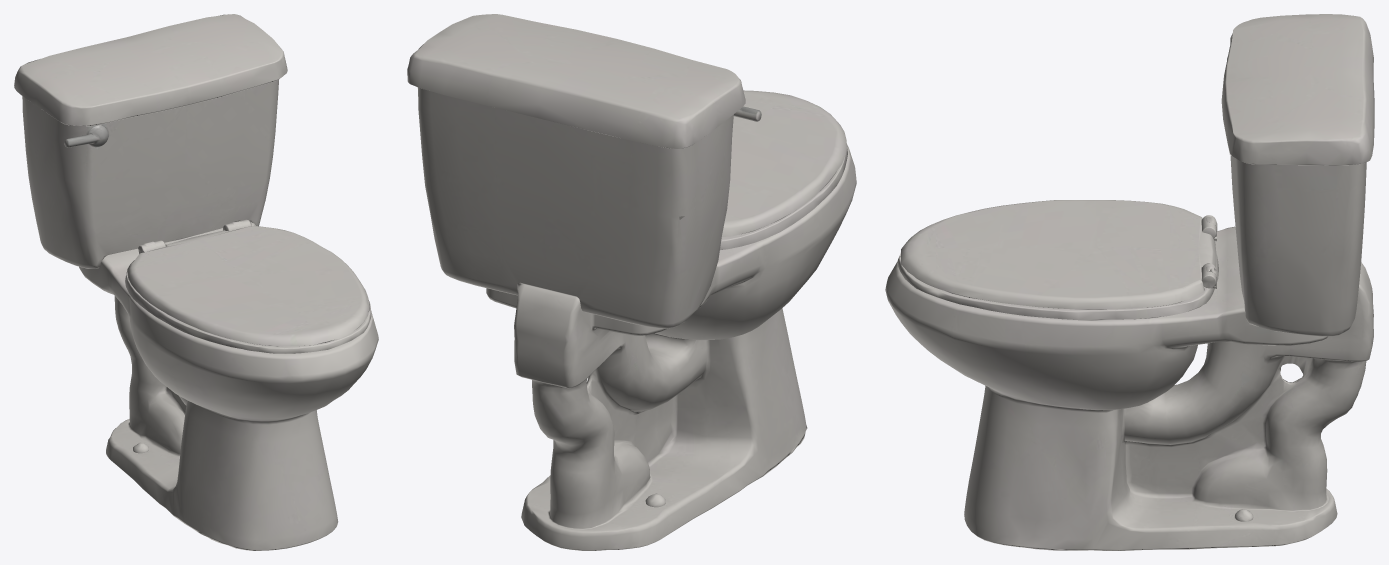
The model's file is toilet.glb.
3 renders of one model, left to right at view 1: azimuth 30°, elevation 25°; view 2: azimuth 150°, elevation 25°; view 3: azimuth 270°, elevation 25°, orthographic. The views are drawn at different scales.
Visible parts, largest first — view 1: Mesh_0; view 2: Mesh_0; view 3: Mesh_0.
Boxes of the visible parts, x1=… form: Mesh_0: x1=14, y1=14, x2=378, y2=550; Mesh_0: x1=407, y1=14, x2=856, y2=550; Mesh_0: x1=885, y1=14, x2=1374, y2=550.
Bounding box in the file's own units: 0.5055 × 0.8 × 0.8008.
Materials: 1 (1 with a texture image).
